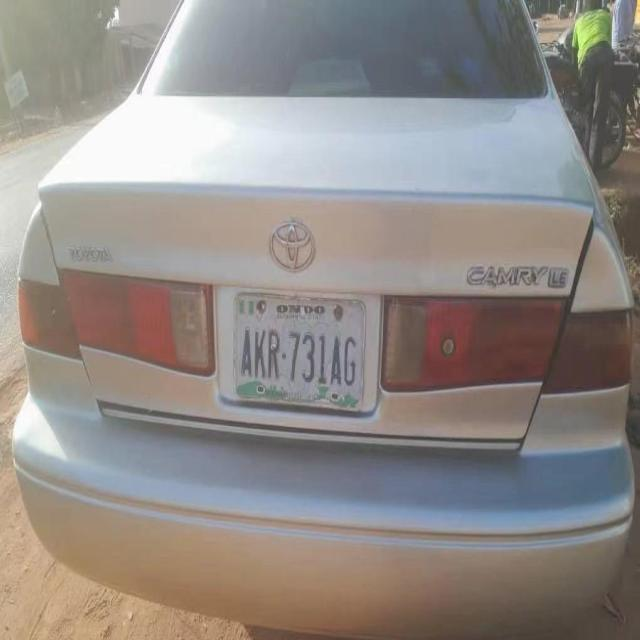Nigerian License Plate - vdataset benjamin-daria: (230, 287, 368, 413)
